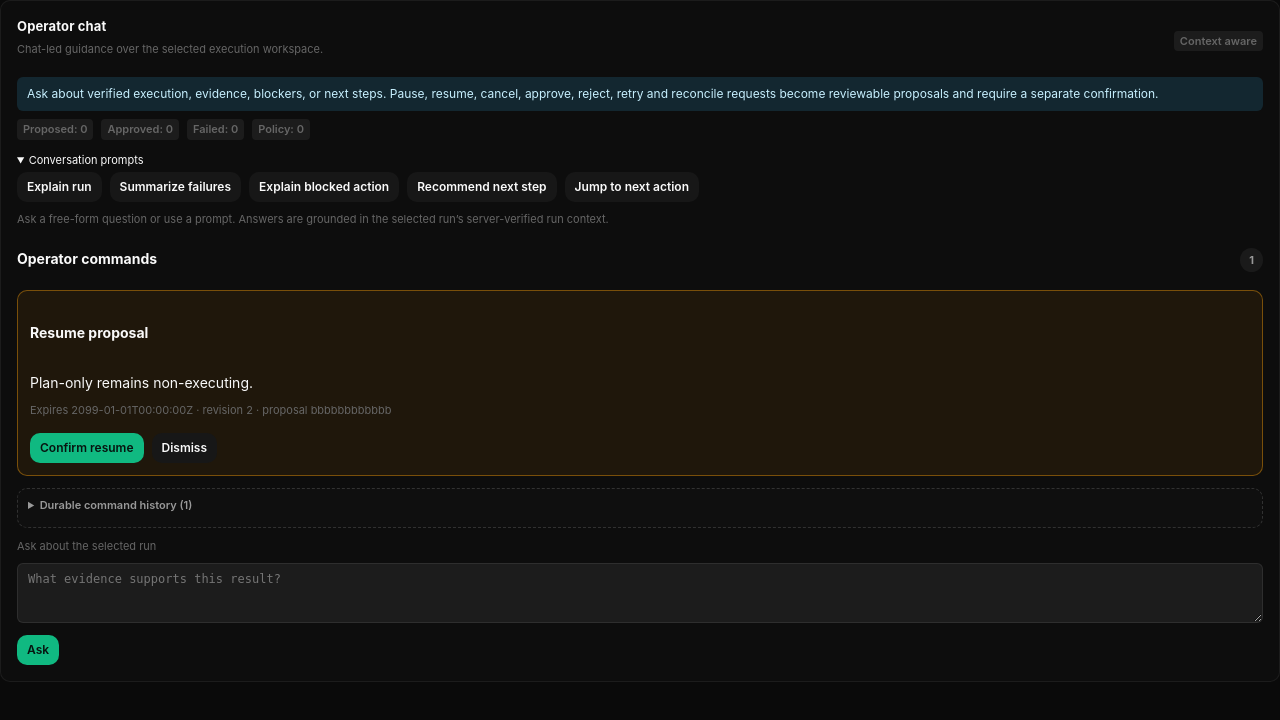
it: OperatorConsoleChat › requires exact resume confirmation and fences navigation during history refresh (false)
Expected: the list item "Plan-only remains non-executing." is shown, [30,374,253,391]
Click the button "Confirm resume" at (87, 448), box [30,433,144,463]
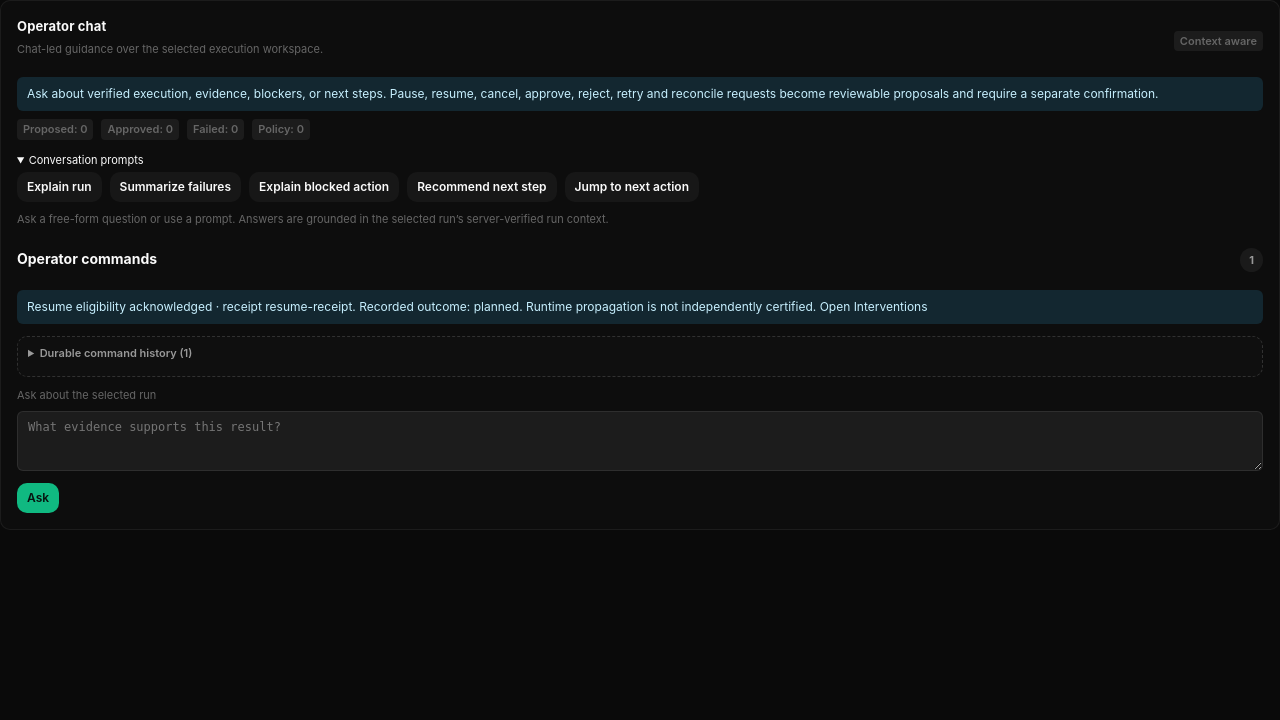
Result: the element named "Resume receipt" shows "Recorded outcome: planned" at [17,290,1263,324]
